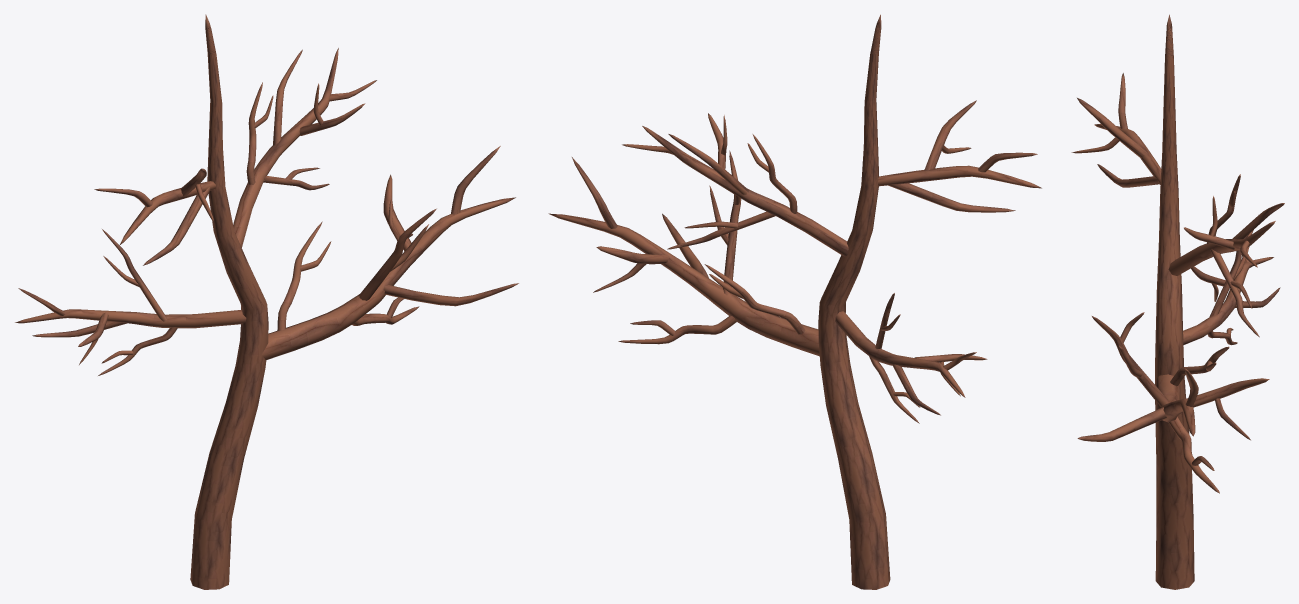
Rendered from DeadTree_3.glb.
3 renders of one model, left to right at view 1: azimuth 30°, elevation 25°; view 2: azimuth 150°, elevation 25°; view 3: azimuth 270°, elevation 25°, orthographic.
Parts seen in each view (by area): view 1: DeadTree_3; view 2: DeadTree_3; view 3: DeadTree_3.
Part boxes in pixels (box(x1,y1,x2,y2)): DeadTree_3: box(15, 14, 518, 589); DeadTree_3: box(548, 14, 1041, 589); DeadTree_3: box(1071, 14, 1284, 589).
Bounding box in the file's own units: 4.22 × 4.96 × 1.7.
Materials: 1 (1 with a texture image).
